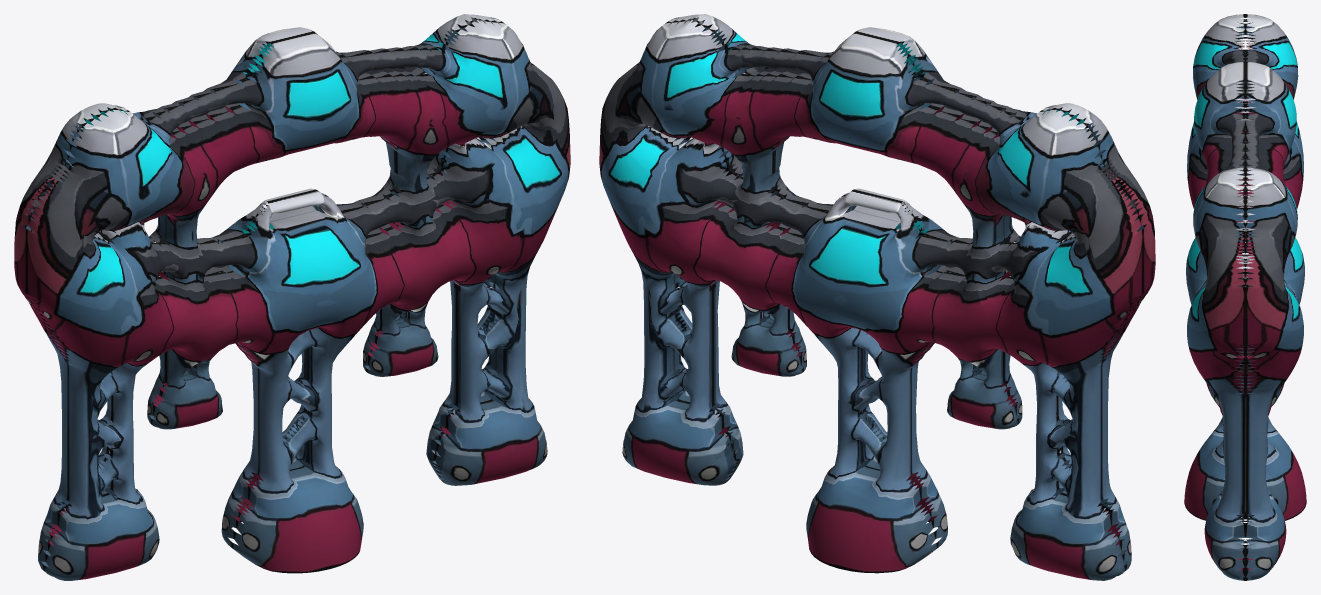
File: assembly_gantry.glb
The picture shows the model from 3 angles, left to right: view 1: azimuth 30°, elevation 25°; view 2: azimuth 150°, elevation 25°; view 3: azimuth 270°, elevation 25°; orthographic projection. The views are drawn at different scales.
Visible parts, largest first — view 1: assembly_gantry; view 2: assembly_gantry; view 3: assembly_gantry.
Part boxes in pixels (bbox=[...]): assembly_gantry: bbox=[14, 14, 570, 580]; assembly_gantry: bbox=[599, 14, 1155, 580]; assembly_gantry: bbox=[1184, 14, 1306, 580].
Size of the model in its own units: 0.9888 by 0.8988 by 0.2309.
1 material, 1 textured.
